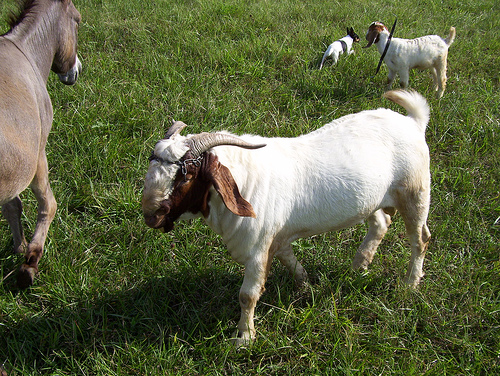goat: (139, 87, 431, 349), (364, 23, 458, 101)
